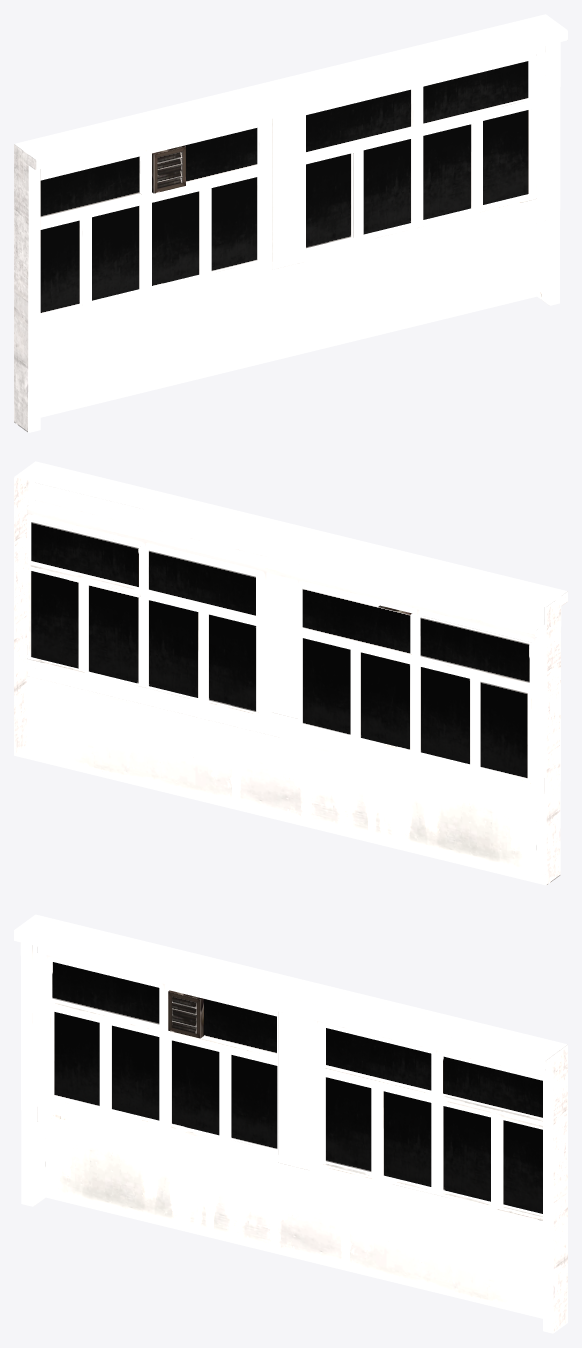
3 renders of one model, top to bottom at view 1: azimuth 30°, elevation 25°; view 2: azimuth 150°, elevation 25°; view 3: azimuth 330°, elevation 25°, orthographic.
Visible parts, largest first — view 1: S_B_3; view 2: S_B_3; view 3: S_B_3.
Boxes of the visible parts, x1,y1,x2,y2 form: S_B_3: (14,14,567,432); S_B_3: (14,461,567,885); S_B_3: (14,914,567,1333).
Size of the model in its own units: 480 by 240 by 34.61.
Materials: 1 (1 with a texture image).
